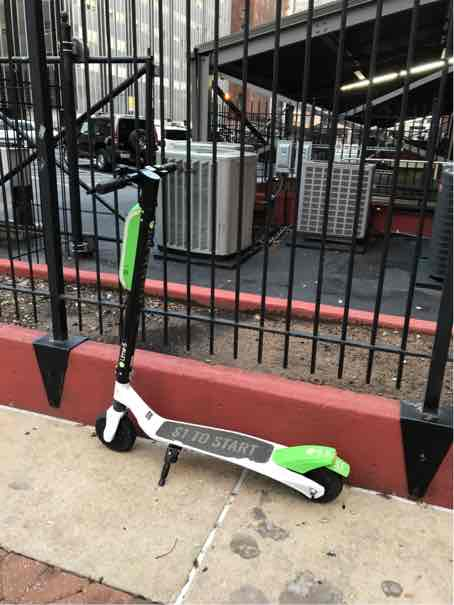scooter: (67, 151, 349, 509)
